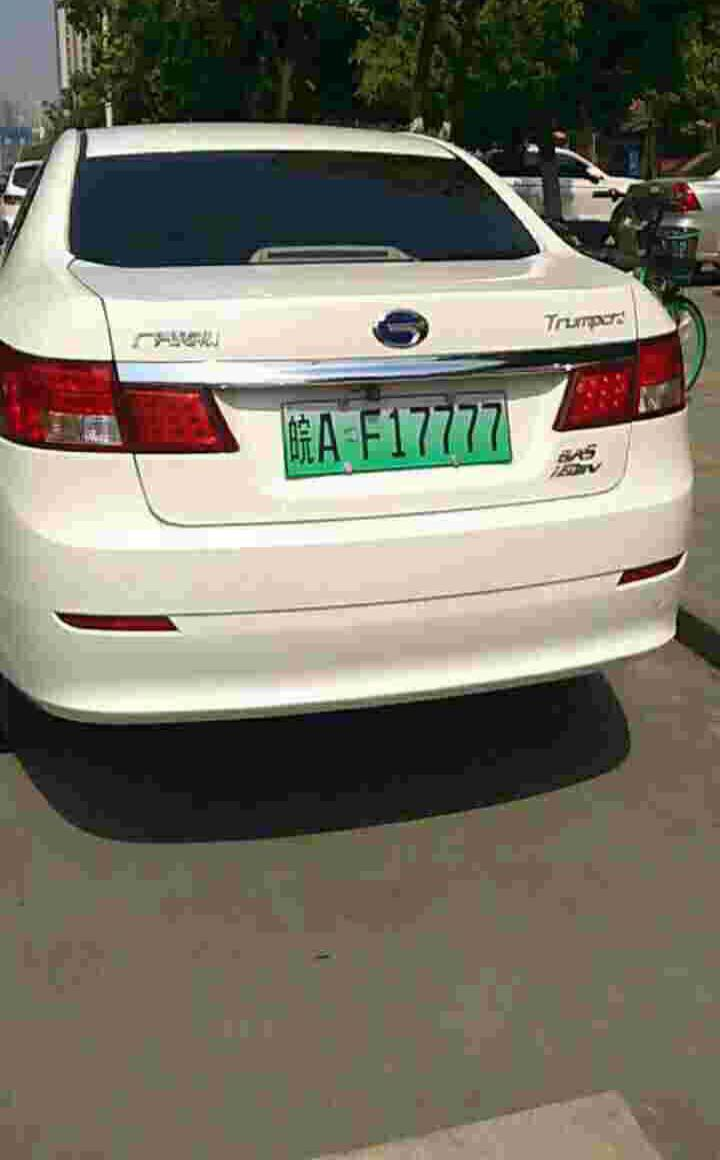car: (273, 399, 520, 478)
